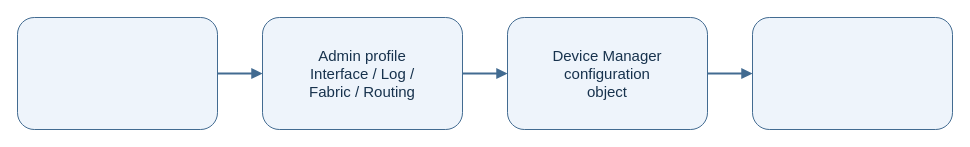
This 970x147 diagram has some shape labels left out. Each missing label, with the centre of its shape:
"Administrator login + role" belongs at (117,73).
"Install / push target + device state" belongs at (852,73).
